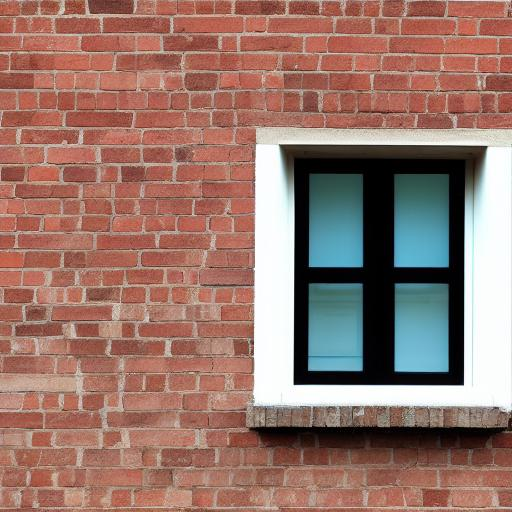Window: (245, 124, 512, 432)
